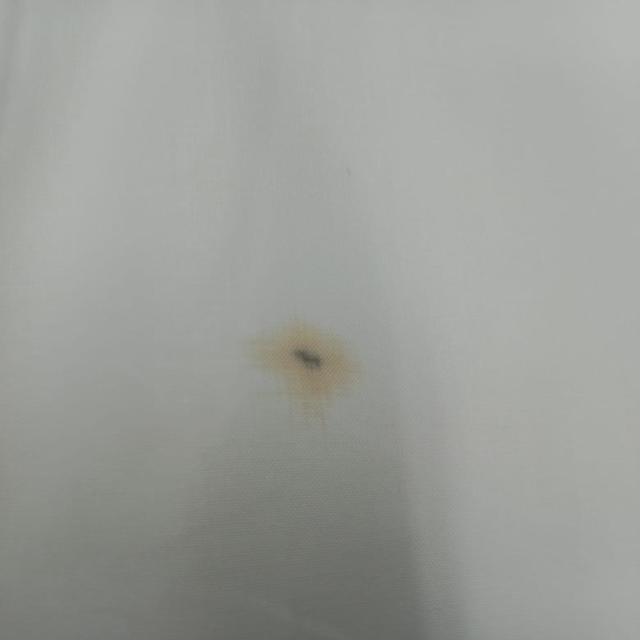stain: (245, 316, 370, 417)
